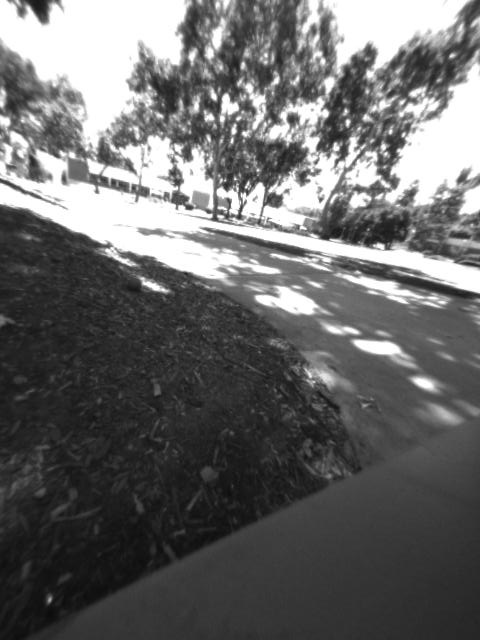dogtoy: (119, 270, 156, 295)
